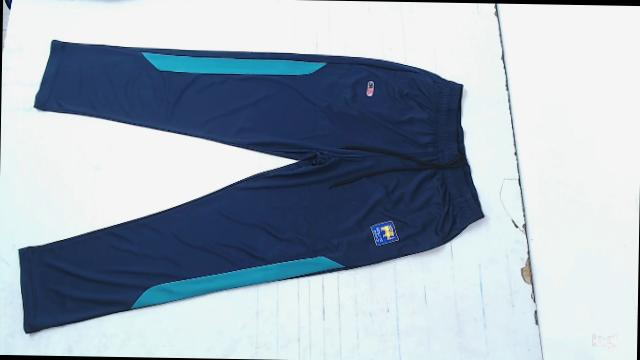new-garment: (20, 40, 483, 332)
